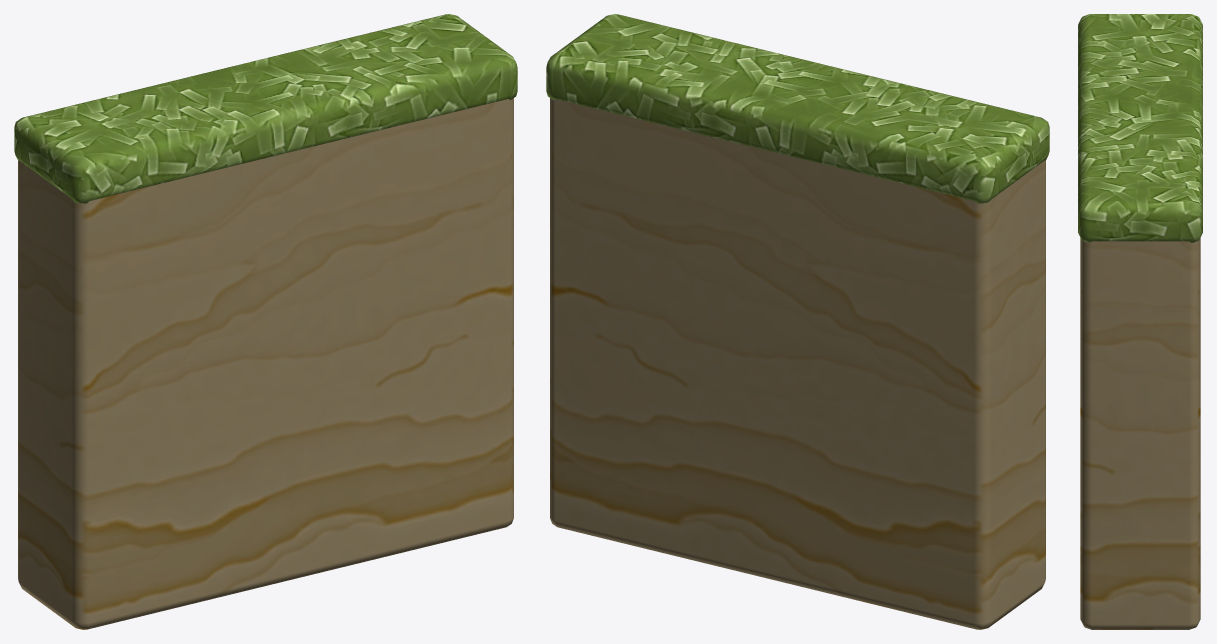
File: SM_Platform_2m_Half_01_C.glb
3 renders of one model, left to right at view 1: azimuth 30°, elevation 25°; view 2: azimuth 150°, elevation 25°; view 3: azimuth 270°, elevation 25°, orthographic. The views are drawn at different scales.
Visible parts, largest first — view 1: SM_Platform_2m_Half_01_C; view 2: SM_Platform_2m_Half_01_C; view 3: SM_Platform_2m_Half_01_C.
Boxes of the visible parts, box(x1,y1,x2,y2) form: SM_Platform_2m_Half_01_C: box(14, 14, 517, 629); SM_Platform_2m_Half_01_C: box(546, 14, 1049, 629); SM_Platform_2m_Half_01_C: box(1078, 14, 1202, 629).
Size of the model in its own units: 2.02 by 2.05 by 0.54.
Materials: 2 (2 with a texture image).
